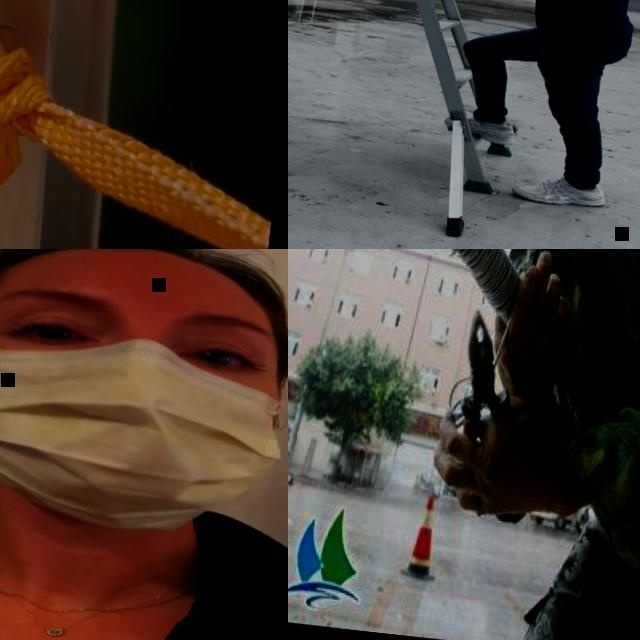Mask: (0, 334, 288, 544)
NO-Hardhat: (0, 249, 288, 321)
NO-Safety Vest: (483, 249, 640, 613), (0, 514, 288, 640), (529, 0, 640, 61)
Person: (0, 249, 288, 640), (375, 249, 640, 640), (371, 0, 640, 210)
Safety Cone: (401, 487, 444, 582)
vehicle: (527, 490, 597, 534)
